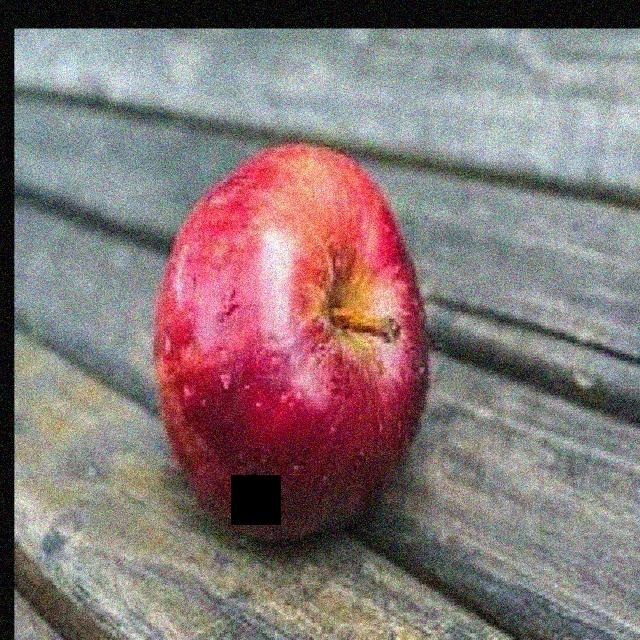red apple: (151, 134, 429, 545)
